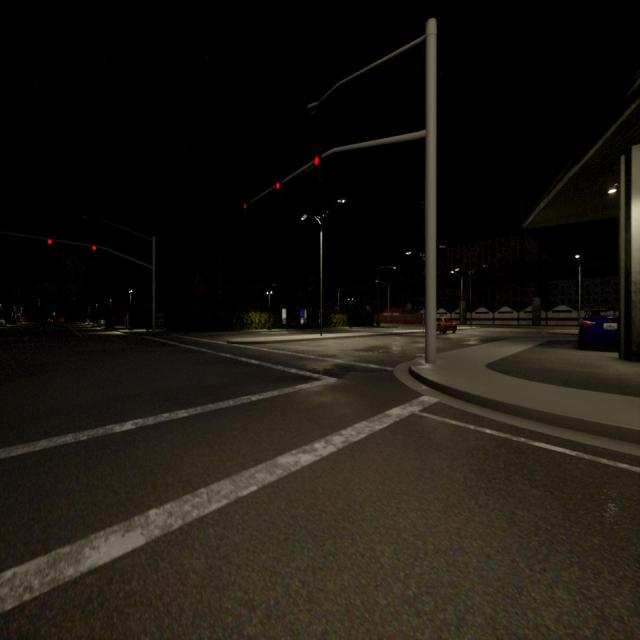Vehicle: (579, 310, 622, 350), (436, 317, 457, 334)
traffic_light: (314, 157, 319, 166), (276, 182, 280, 190), (48, 239, 52, 244), (243, 204, 247, 209), (92, 246, 96, 250)
